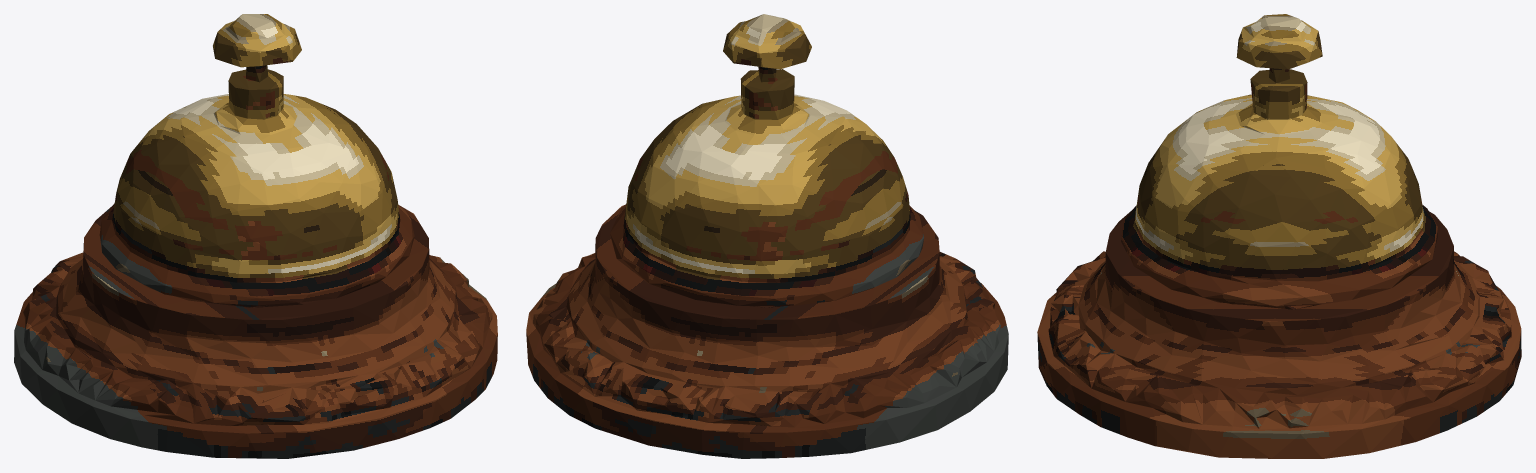
File: bell.glb
3 views of the same model, side by side, from view 1: azimuth 30°, elevation 25°; view 2: azimuth 150°, elevation 25°; view 3: azimuth 270°, elevation 25° (orthographic).
Visible parts, largest first — view 1: bell; view 2: bell; view 3: bell.
Part boxes in pixels (bbox=[...]): bell: bbox=[14, 14, 497, 458]; bell: bbox=[526, 14, 1008, 458]; bell: bbox=[1037, 14, 1521, 458].
Bounding box in the file's own units: 0.2572 × 0.2 × 0.258.
1 material, 1 textured.
